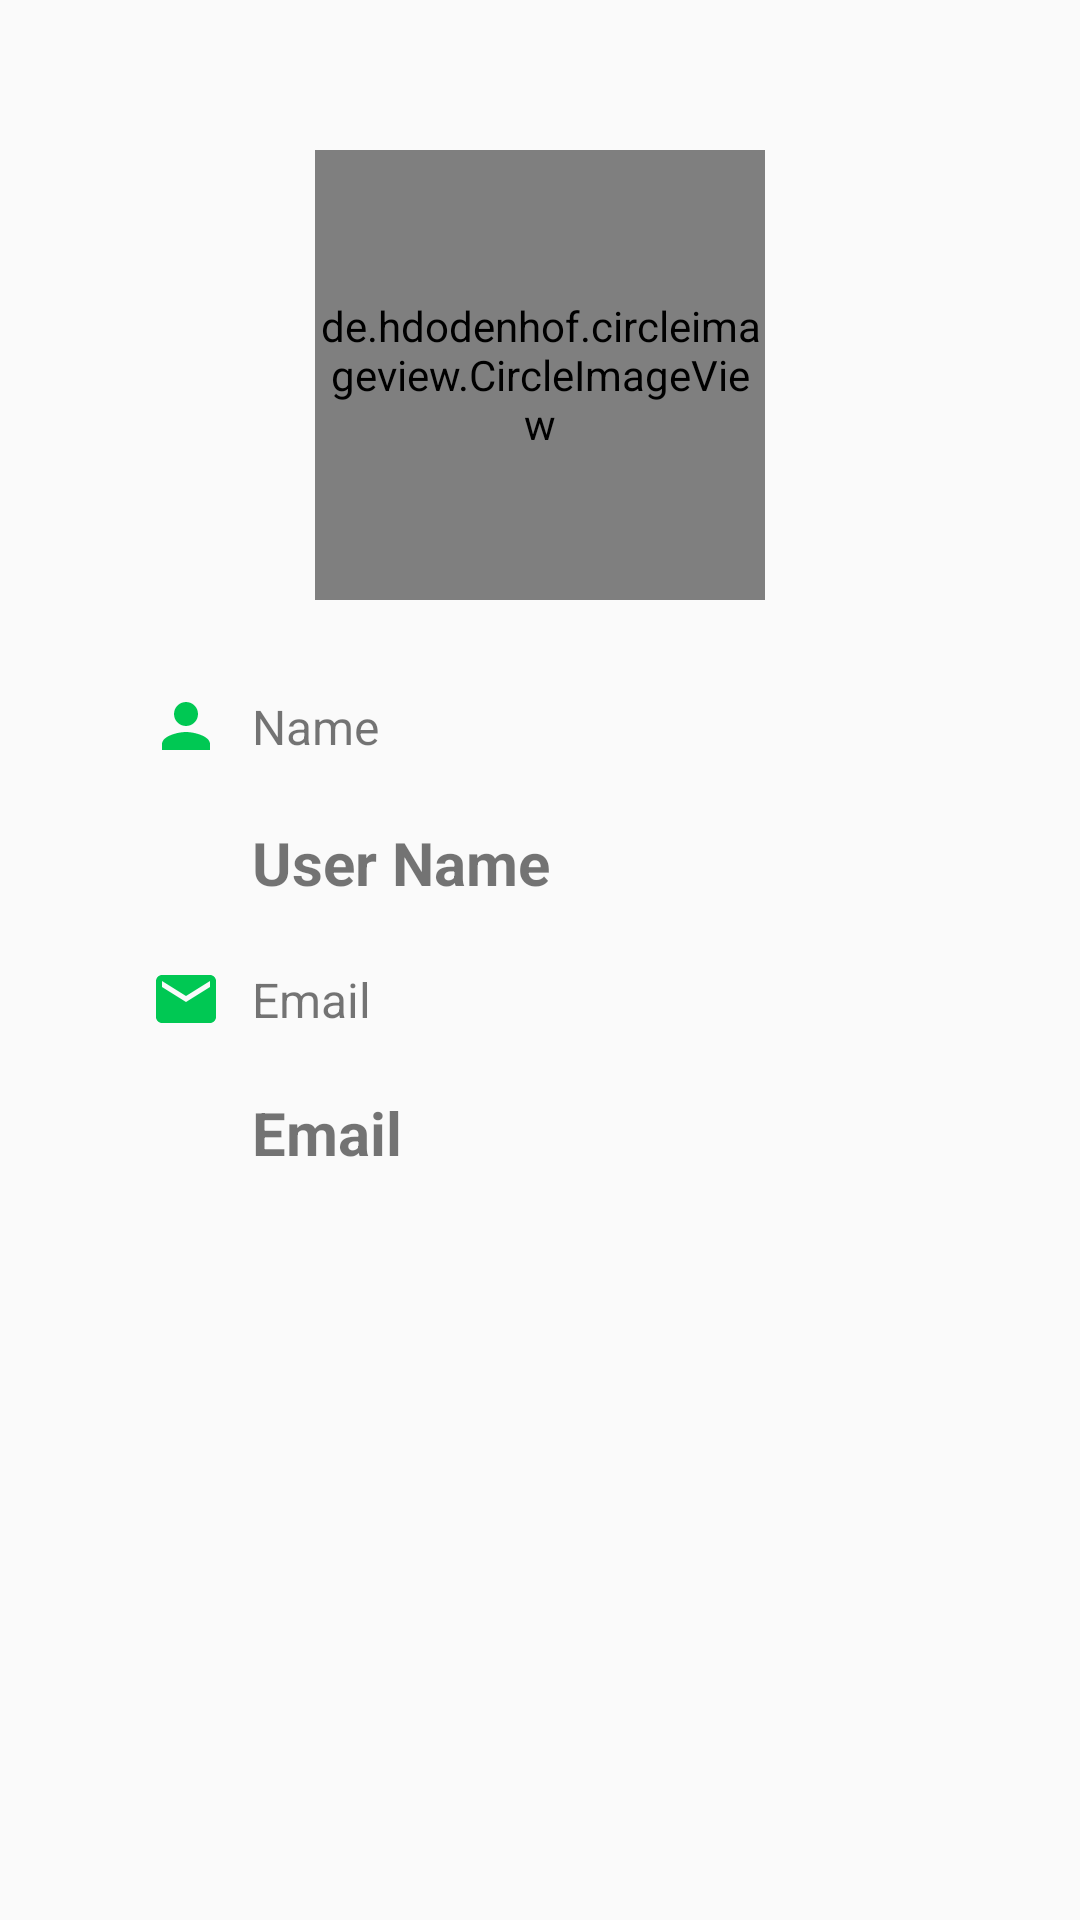

Screen size 1080*1920. Icon name, then its center in pixels as point (x, y):
person: point (186, 726)
